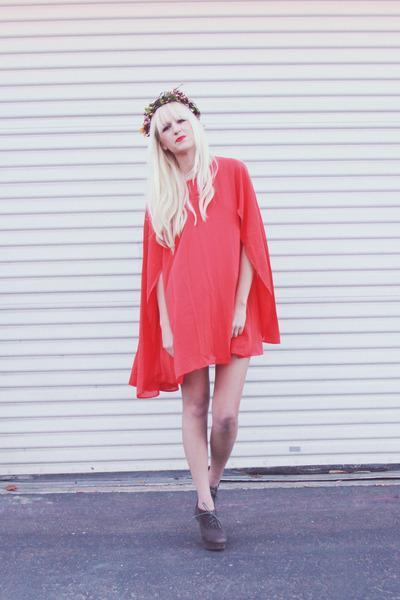dress: (129, 158, 279, 398)
shoe: (194, 501, 220, 531)
